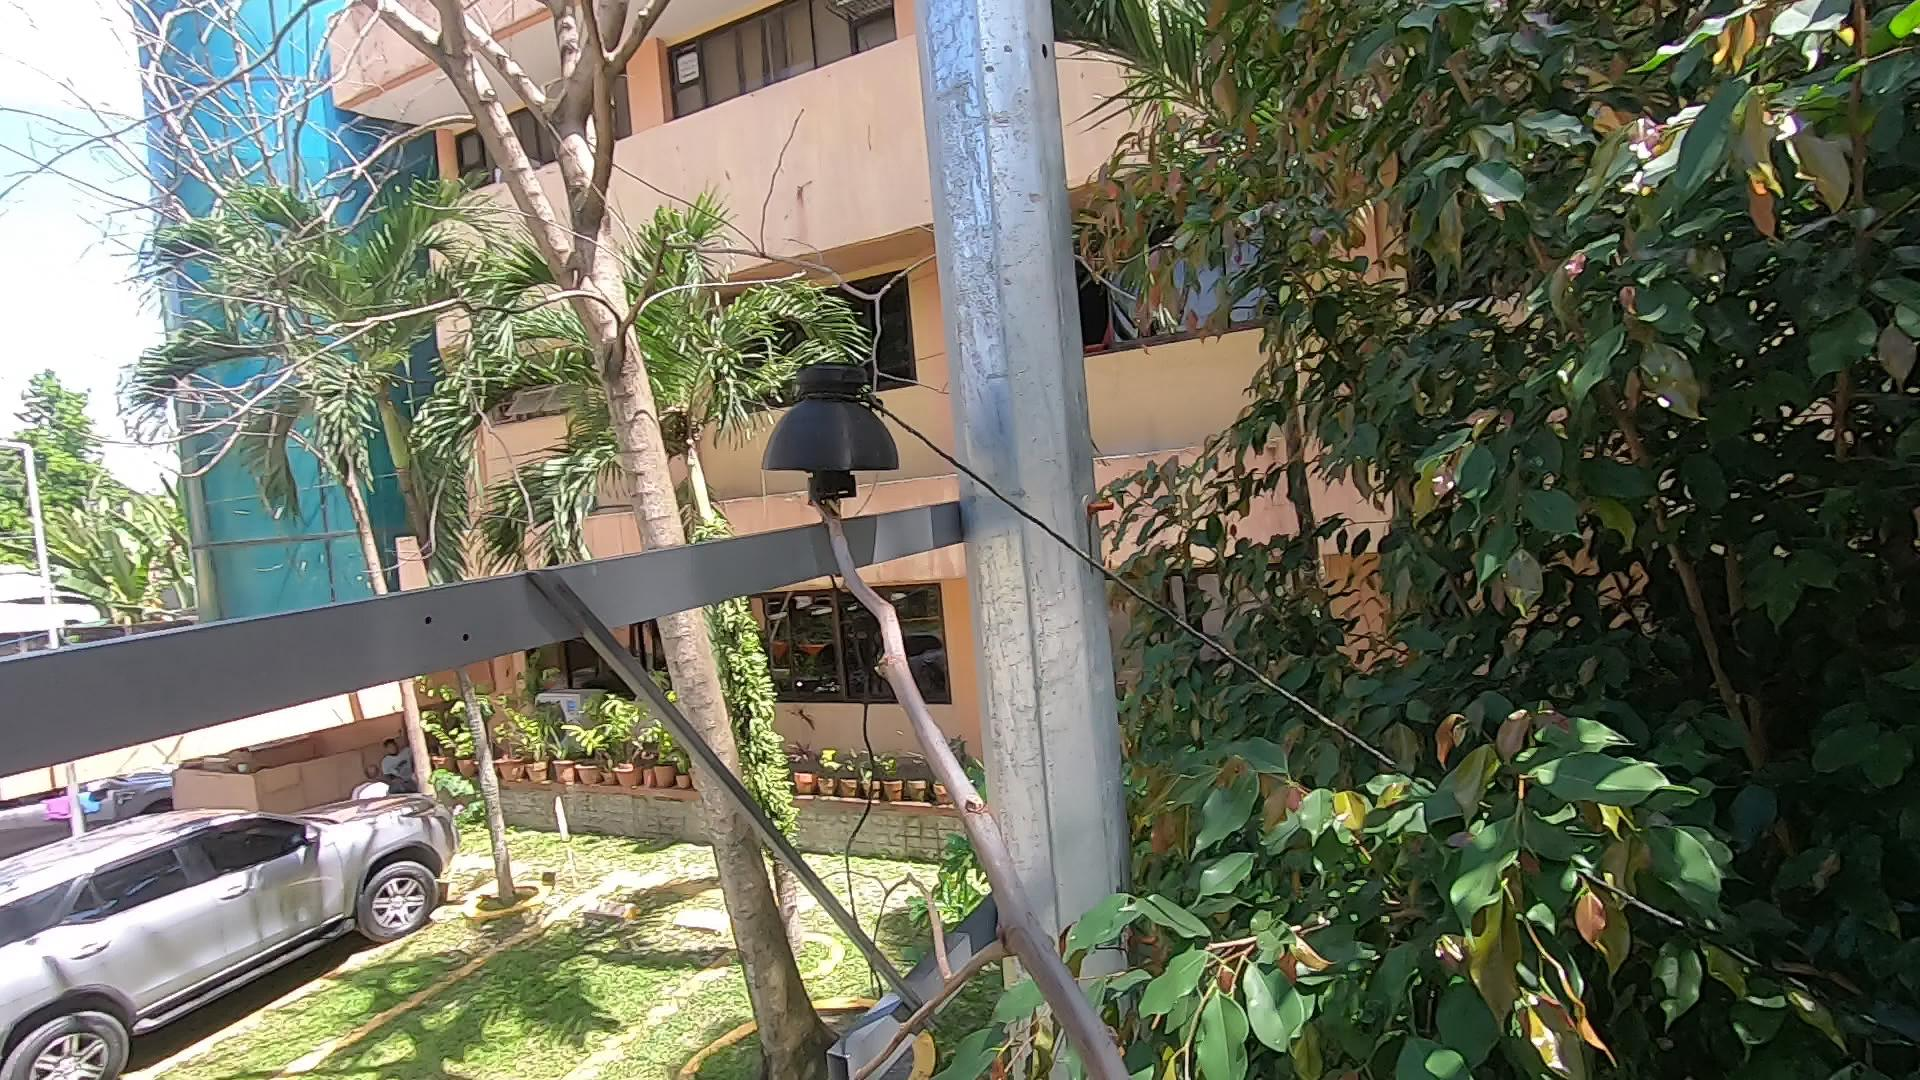branch with leaves: (928, 978, 1065, 1080)
tree branch: (775, 436, 1153, 1080)
